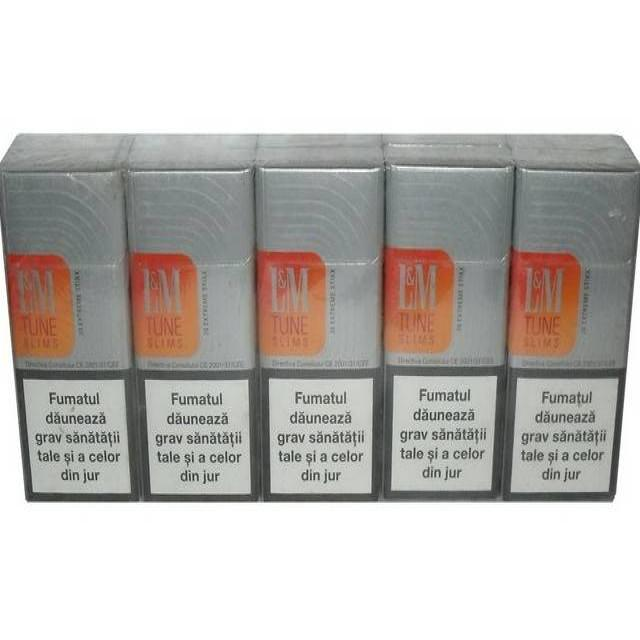lm: (4, 131, 145, 505), (122, 128, 259, 504), (501, 137, 640, 504), (378, 137, 514, 501), (256, 130, 382, 505)
